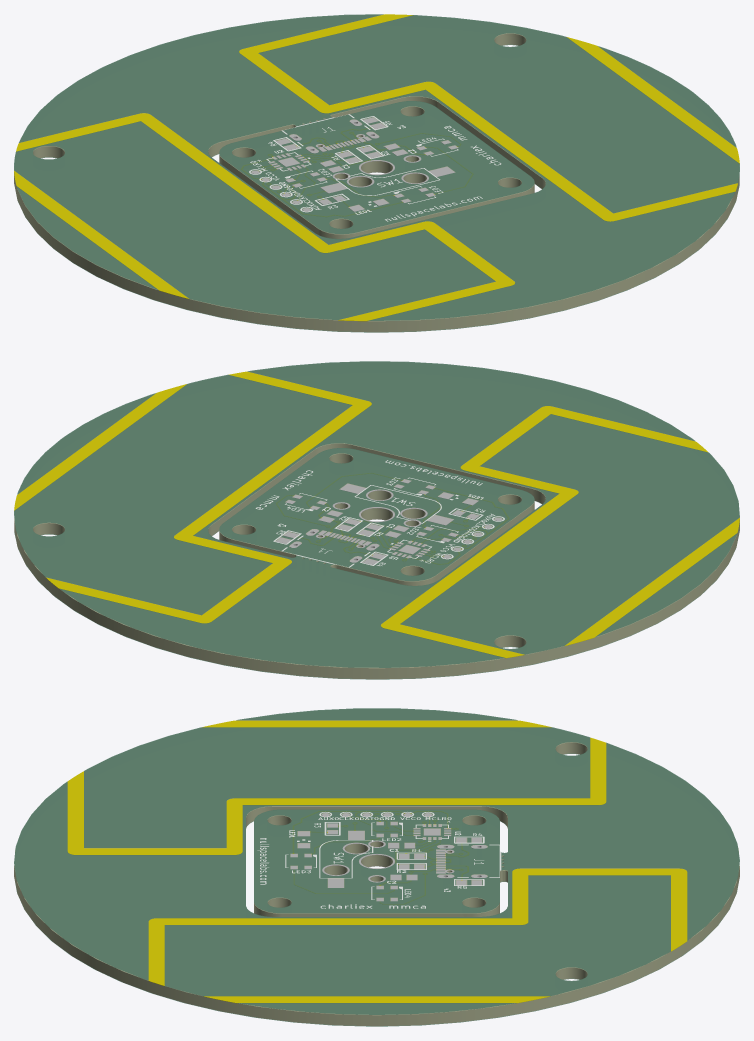
Rendered from layerone-2023-pic-hid-badge.glb.
The picture shows the model from 3 angles, top to bottom: view 1: azimuth 30°, elevation 25°; view 2: azimuth 150°, elevation 25°; view 3: azimuth 270°, elevation 25°; orthographic projection.
Parts seen in each view (by area): view 1: =>[0:1:1:9], =>[0:1:1:7], =>[0:1:1:2], =>[0:1:1:5]; view 2: =>[0:1:1:9], =>[0:1:1:7], =>[0:1:1:2], =>[0:1:1:5]; view 3: =>[0:1:1:9], =>[0:1:1:7], =>[0:1:1:2], =>[0:1:1:5].
Boxes of the visible parts, x1=… form: =>[0:1:1:9]: x1=14, y1=15, x2=739, y2=332; =>[0:1:1:7]: x1=14, y1=14, x2=739, y2=332; =>[0:1:1:2]: x1=14, y1=14, x2=739, y2=321; =>[0:1:1:5]: x1=249, y1=114, x2=501, y2=221; =>[0:1:1:9]: x1=14, y1=362, x2=739, y2=679; =>[0:1:1:7]: x1=14, y1=361, x2=739, y2=679; =>[0:1:1:2]: x1=14, y1=371, x2=739, y2=658; =>[0:1:1:5]: x1=255, y1=460, x2=504, y2=567; =>[0:1:1:9]: x1=14, y1=709, x2=739, y2=1026; =>[0:1:1:7]: x1=14, y1=708, x2=739, y2=1026; =>[0:1:1:2]: x1=67, y1=720, x2=687, y2=1003; =>[0:1:1:5]: x1=257, y1=812, x2=501, y2=908.
Size of the model in its own units: 0.0899 by 0.00166 by 0.09.
4 materials, 4 textured.
